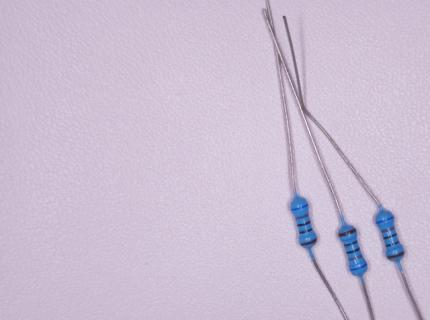Black band: (346, 247, 360, 255), (344, 240, 358, 247), (386, 241, 400, 248), (383, 233, 397, 240), (297, 220, 311, 227), (299, 228, 313, 235)
Blue band: (376, 216, 394, 224), (350, 263, 367, 271), (291, 204, 308, 211)
Brown band: (338, 228, 357, 237), (388, 251, 404, 259), (300, 239, 317, 246)
Grey band: (348, 254, 363, 261), (381, 226, 395, 233), (295, 213, 309, 220)
